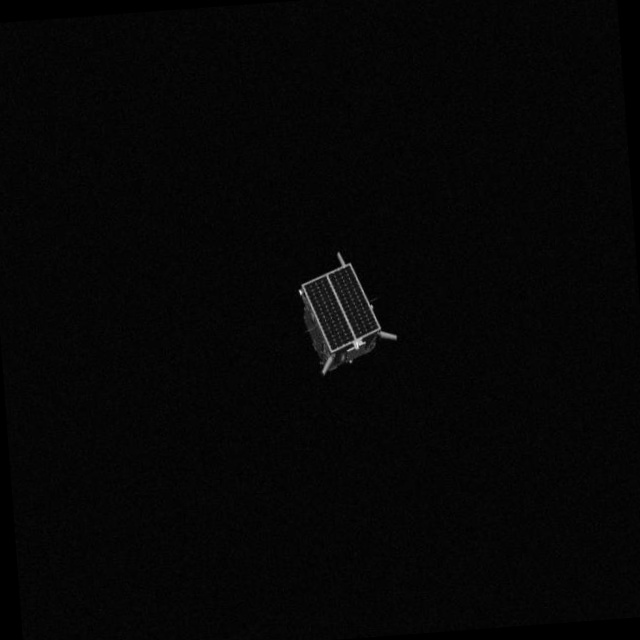medium_debris: (285, 242, 406, 380)
